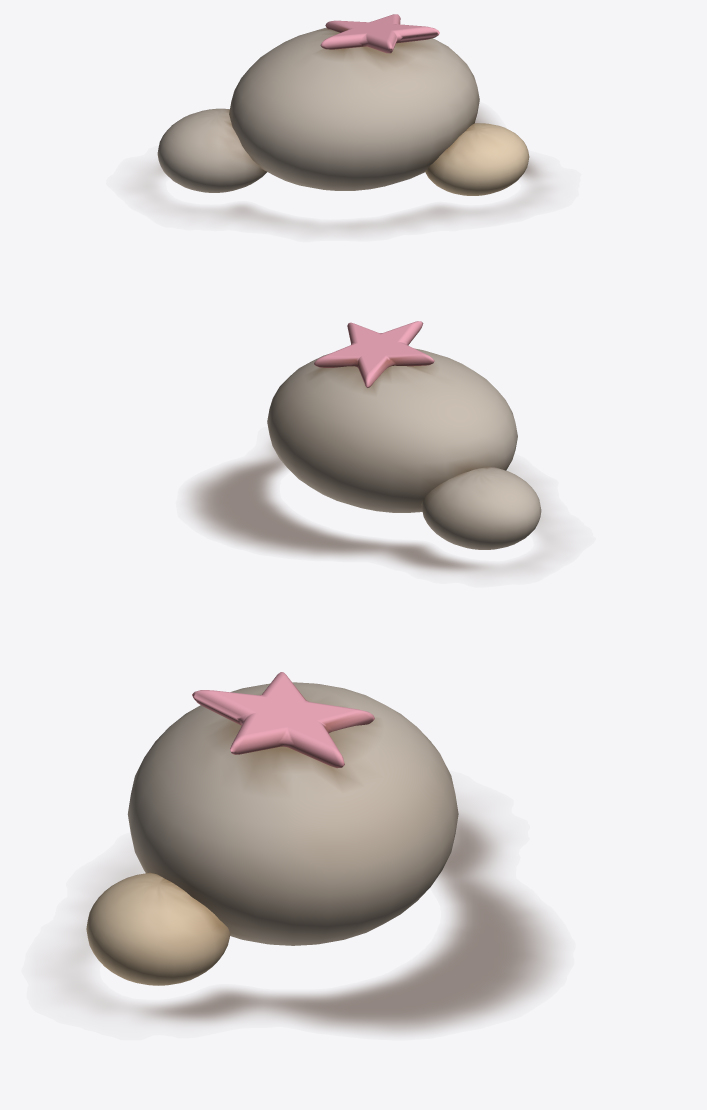
File: prop_rock.glb
3 renders of one model, top to bottom at view 1: azimuth 30°, elevation 25°; view 2: azimuth 150°, elevation 25°; view 3: azimuth 270°, elevation 25°, orthographic. The views are drawn at different scales.
Parts seen in each view (by area): view 1: r1, r2, r3, baked_shadow, starfish; view 2: r1, baked_shadow, r2, starfish; view 3: r1, baked_shadow, r3, starfish.
Part boxes in pixels (left/top/right/bottom): r1: left=229, top=27, right=479, bottom=190; r2: left=157, top=108, right=266, bottom=192; r3: left=425, top=123, right=529, bottom=195; baked_shadow: left=142, top=109, right=542, bottom=230; starfish: left=320, top=14, right=439, bottom=53; r1: left=267, top=348, right=517, bottom=512; baked_shadow: left=189, top=444, right=547, bottom=572; r2: left=421, top=467, right=541, bottom=549; starfish: left=314, top=321, right=434, bottom=387; r1: left=127, top=682, right=458, bottom=945; baked_shadow: left=71, top=807, right=554, bottom=1032; r3: left=86, top=872, right=230, bottom=985; starfish: left=192, top=672, right=374, bottom=768.
Size of the model in its own units: 3.82 by 1.23 by 3.28.
4 materials, 1 textured.
